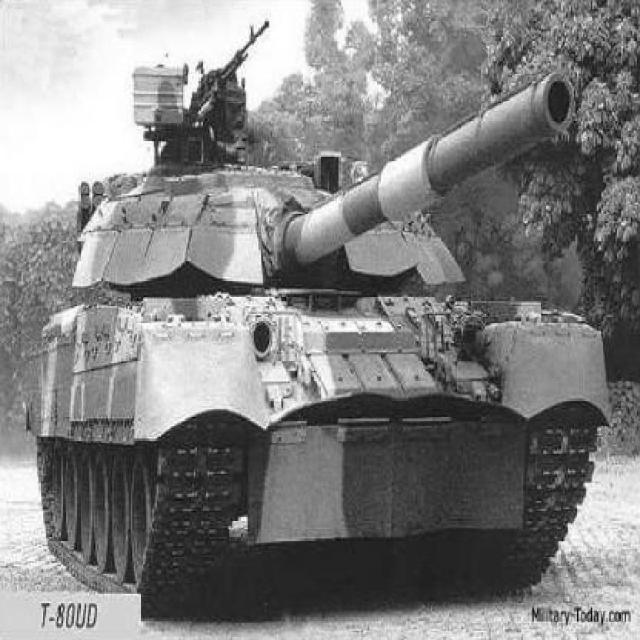Tank: (21, 18, 612, 619)
